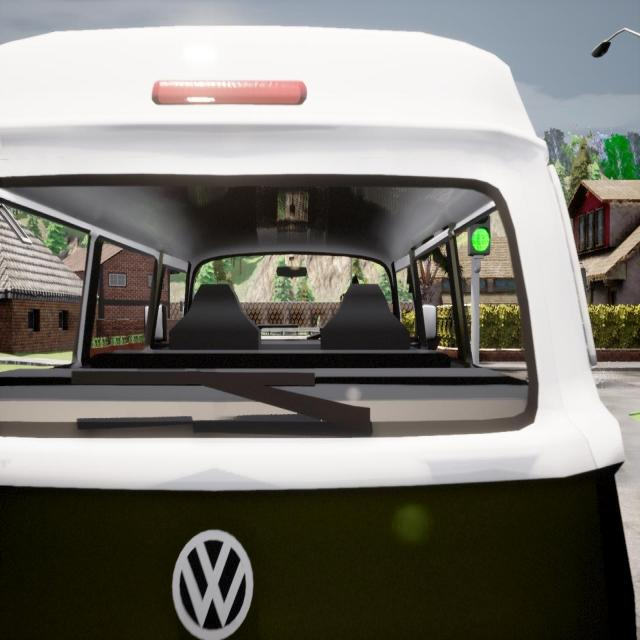Vehicle: (0, 26, 640, 640)
traffic_light: (468, 219, 491, 257)
